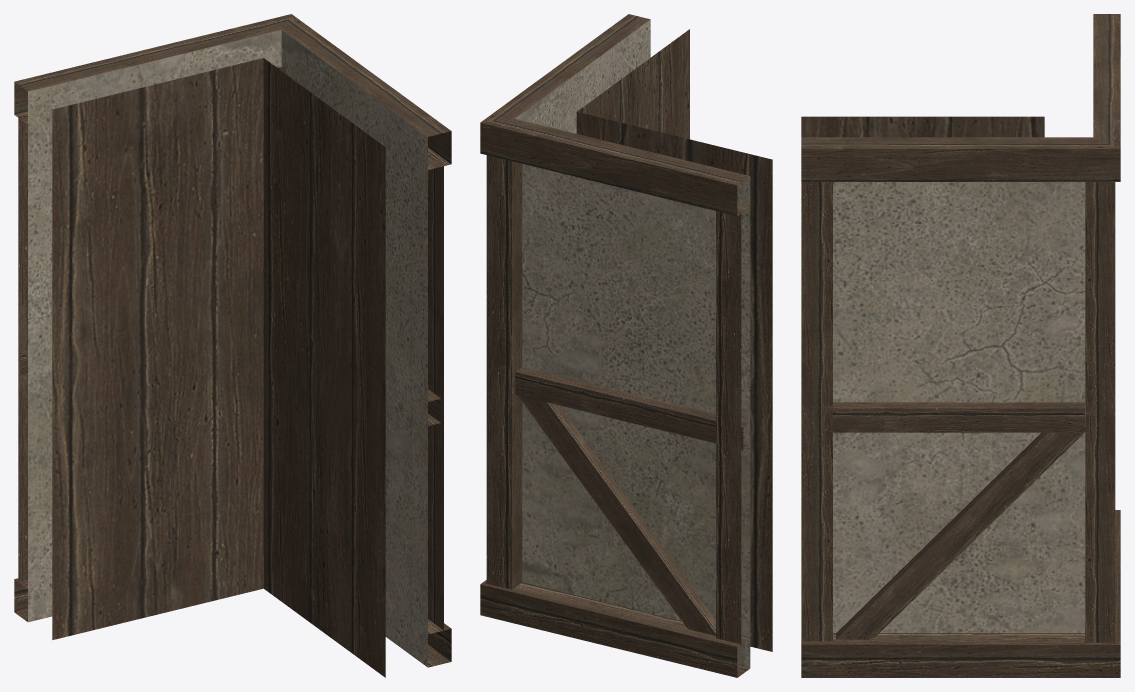
Rendered from ARC1010242.fbx.
3 views of the same model, side by side, from view 1: azimuth 30°, elevation 25°; view 2: azimuth 150°, elevation 25°; view 3: azimuth 270°, elevation 25° (orthographic). The views are drawn at different scales.
Parts seen in each view (by area): view 1: smARC1010242; view 2: smARC1010242; view 3: smARC1010242.
Boxes of the visible parts, bbox=[...] form: smARC1010242: bbox=[14, 14, 451, 677]; smARC1010242: bbox=[480, 14, 772, 677]; smARC1010242: bbox=[801, 14, 1120, 677].
Bounding box in the file's own units: 147 × 268 × 147.
1 material, 1 textured.
